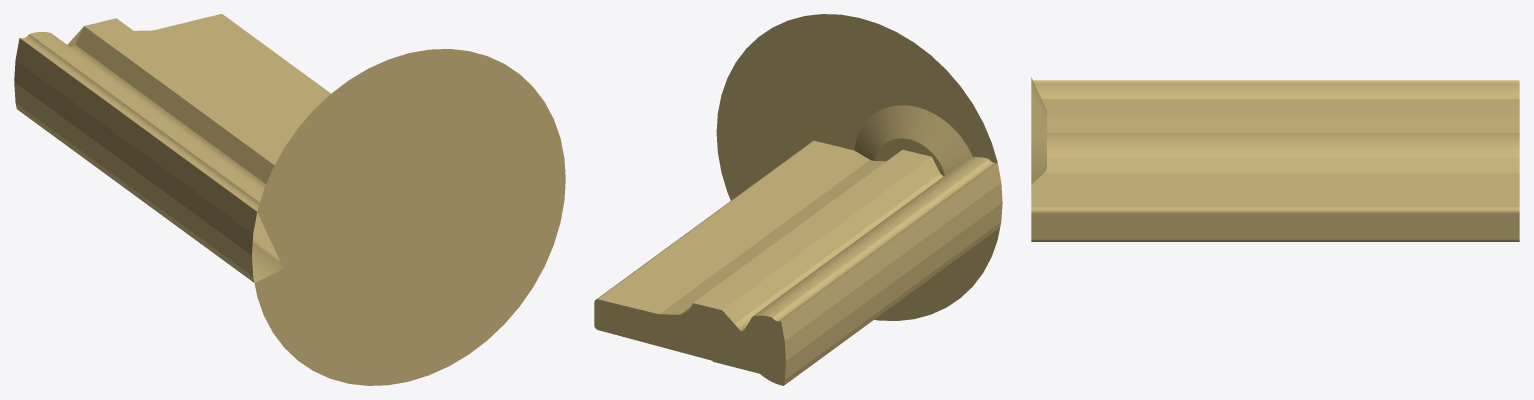
Rendered from key cylinder.fbx.
3 views of the same model, side by side, from view 1: azimuth 30°, elevation 25°; view 2: azimuth 150°, elevation 25°; view 3: azimuth 270°, elevation 25° (orthographic). The views are drawn at different scales.
Parts seen in each view (by area): view 1: Group1; view 2: Group1; view 3: Group1.
Boxes of the visible parts, box(x1,y1,x2,y2) form: Group1: box(14, 14, 565, 385); Group1: box(594, 14, 1002, 385); Group1: box(1031, 77, 1519, 241).
Bounding box in the file's own units: 0.0136 × 0.0136 × 0.0179.
